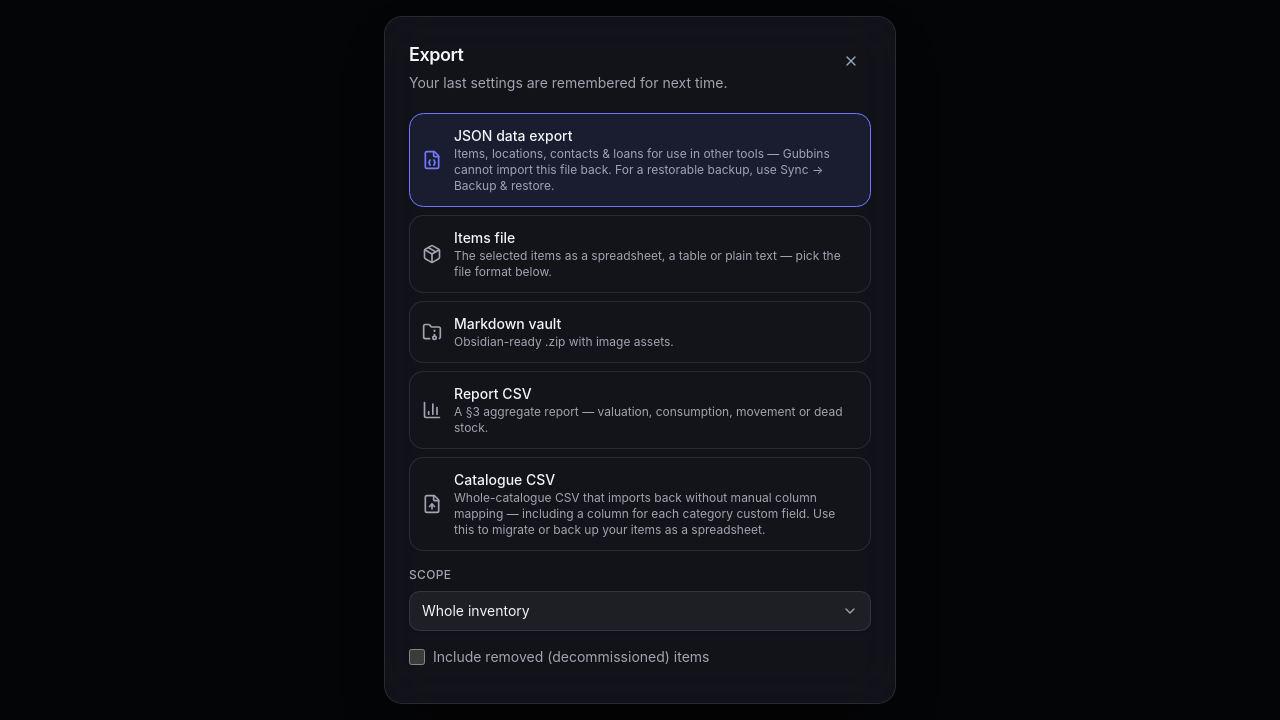
Test: ExportWizard — Location scope › offers "A location" as a scope and reveals a location target picker when chosen
Click the dropdown named "Scope" at (640, 611), box [409,591,871,631]
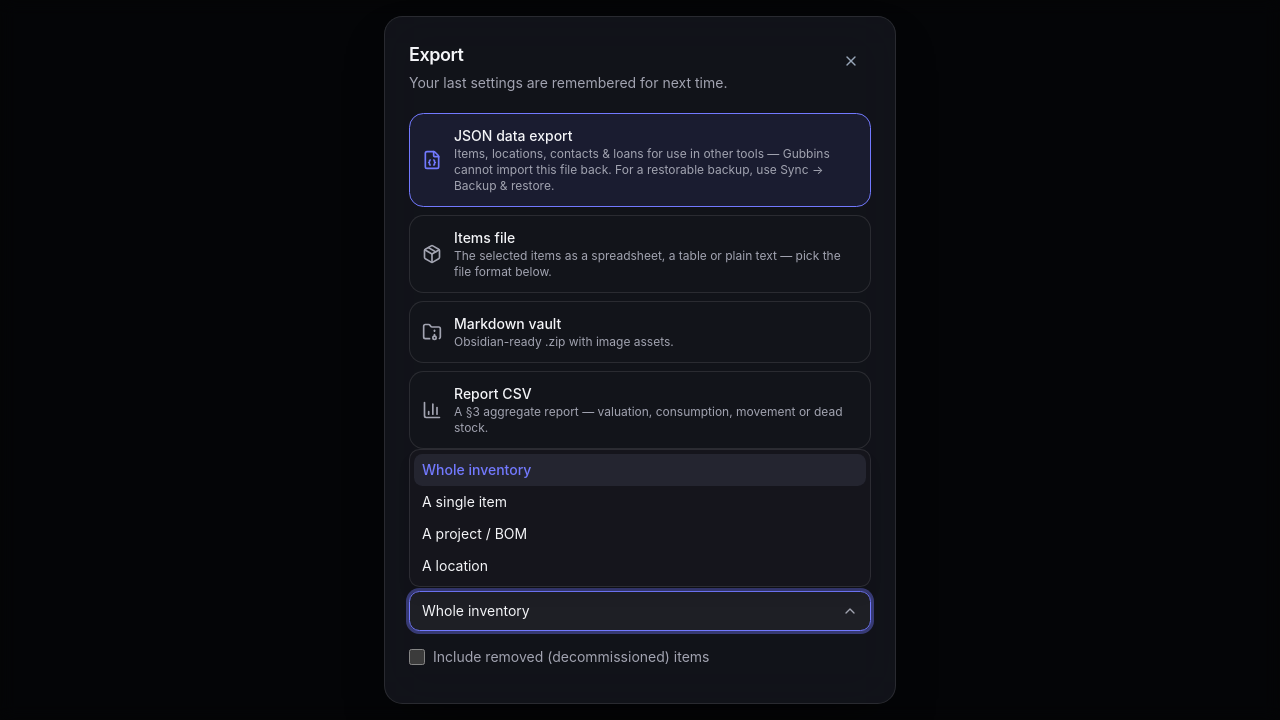
Click the option "A location" at (455, 566), box [422,557,488,574]
(page scrolled)
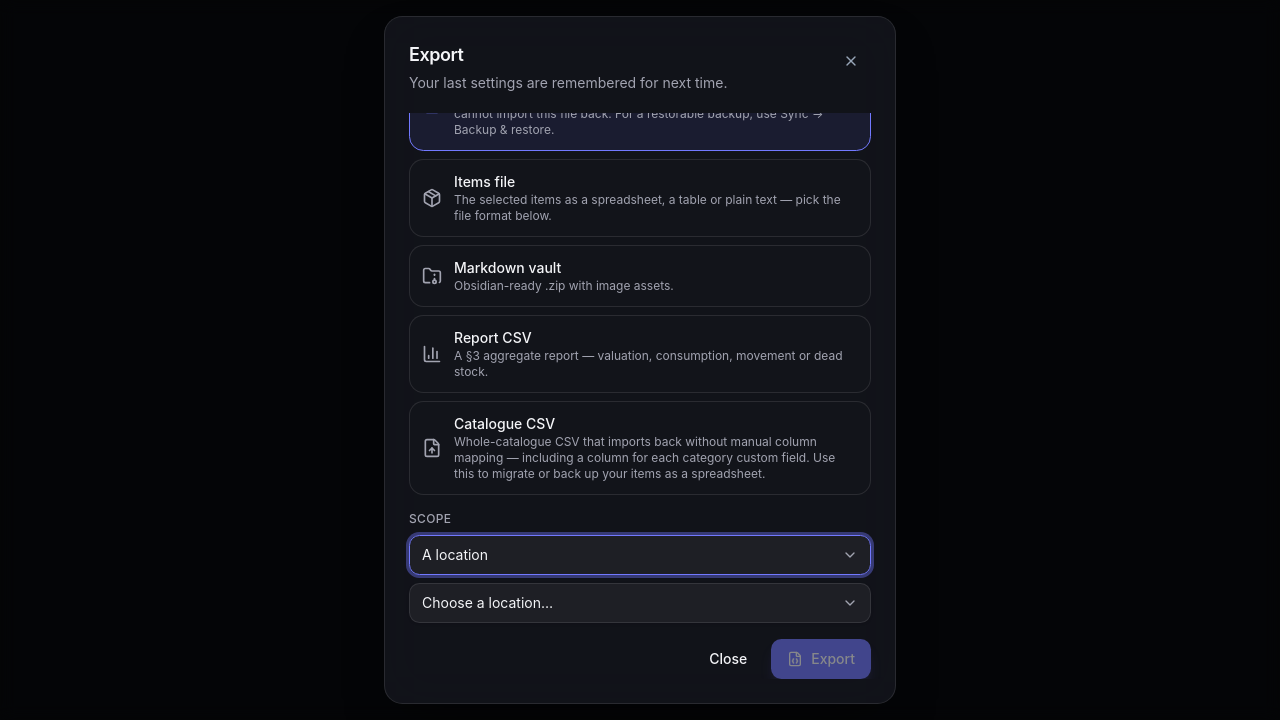
Expected: the button with test id "run-export" is disabled, [771,639,871,679]
Expected: the dropdown with test id "export-target-location" is shown, [409,583,871,623]
